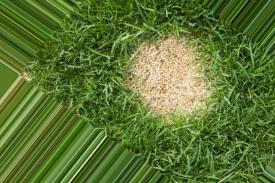patch: (133, 40, 201, 113)
